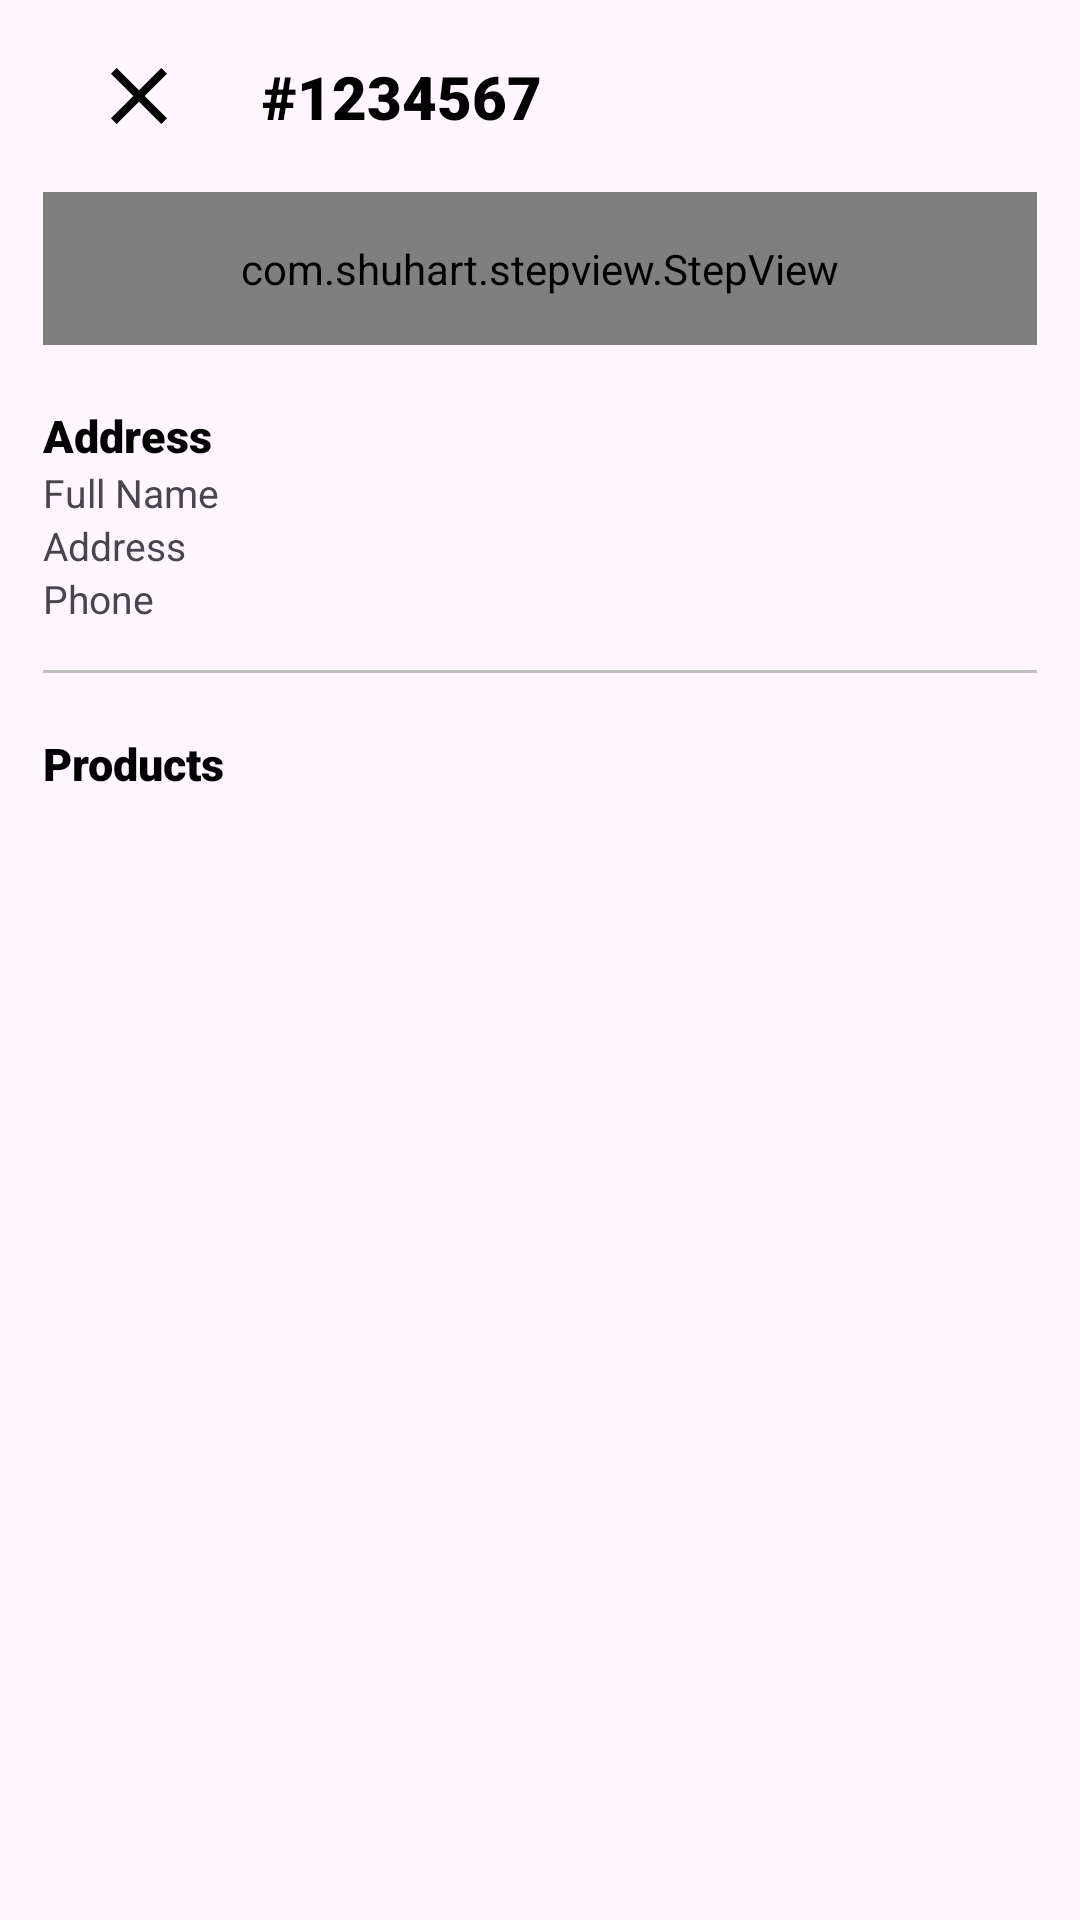

Where to tap for icons on this 1080x1920 app screen, as (x,y):
close: (139,96)
